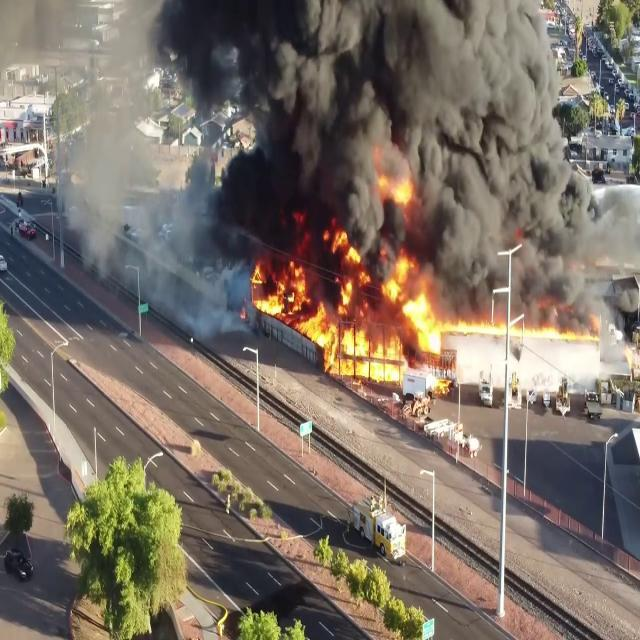Fire: (249, 202, 451, 384), (447, 316, 605, 345)
Smoke: (212, 0, 616, 276), (6, 0, 239, 336)
